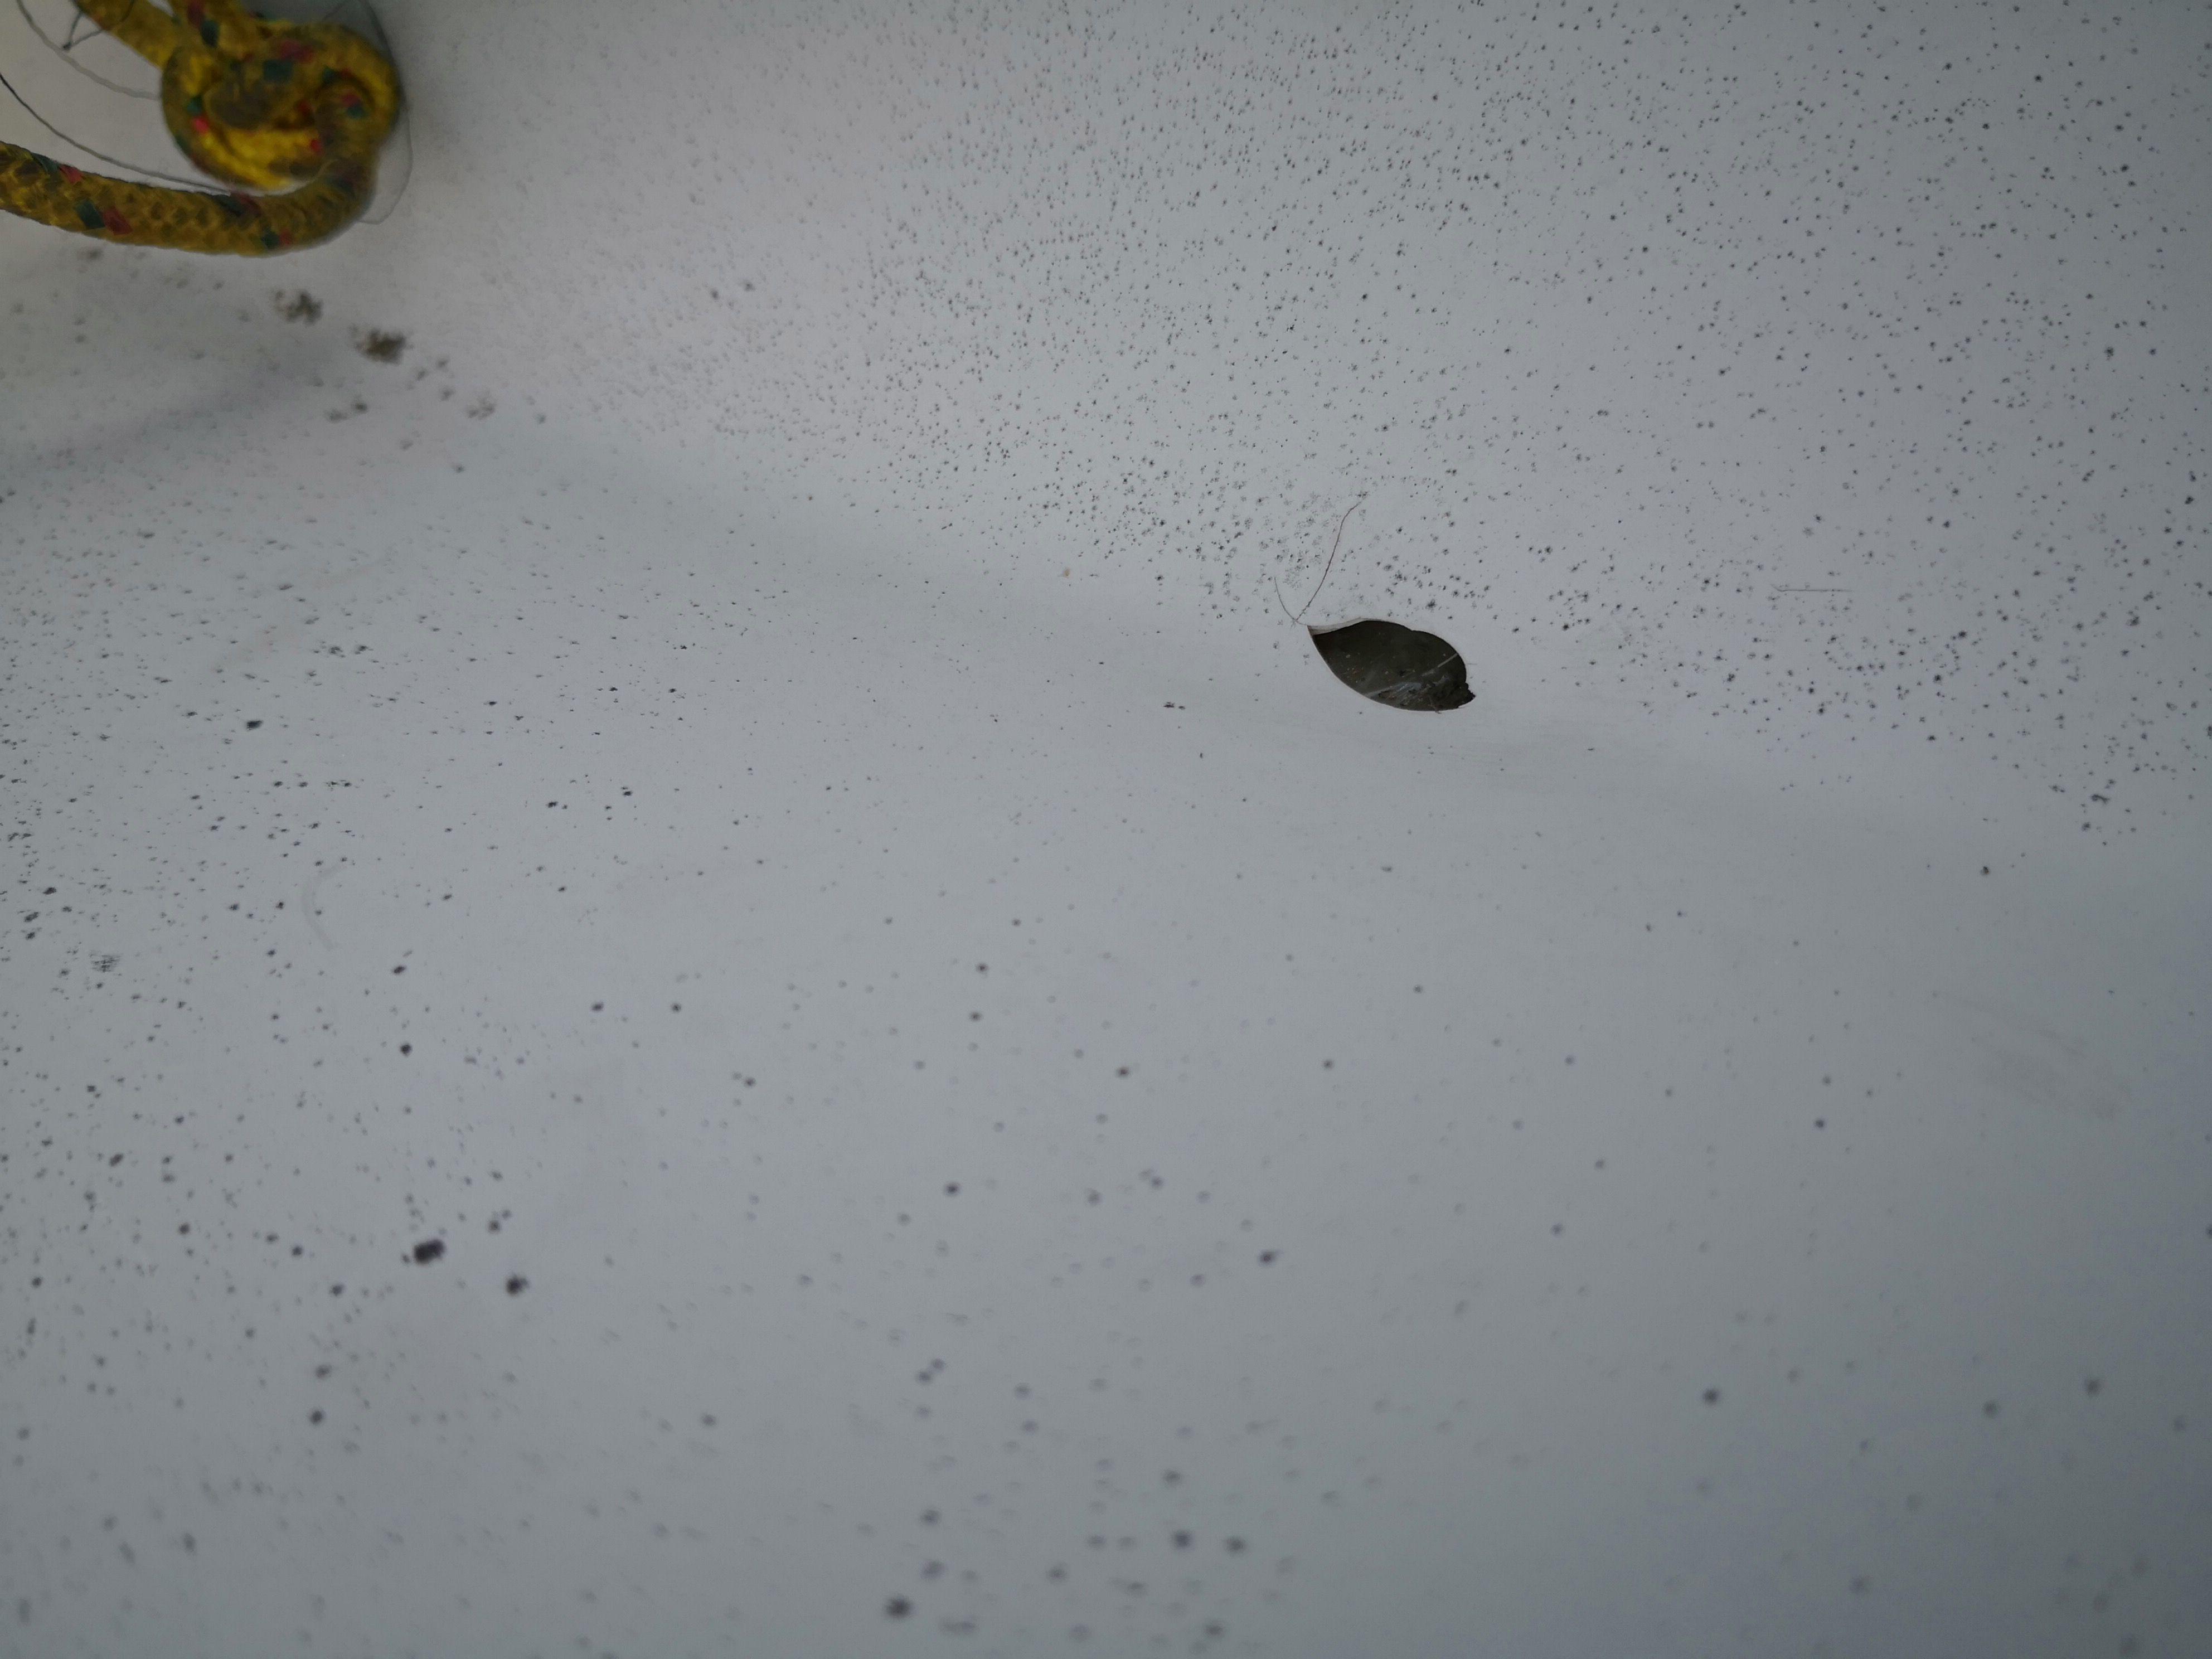SD: (1249, 556, 1512, 739)
